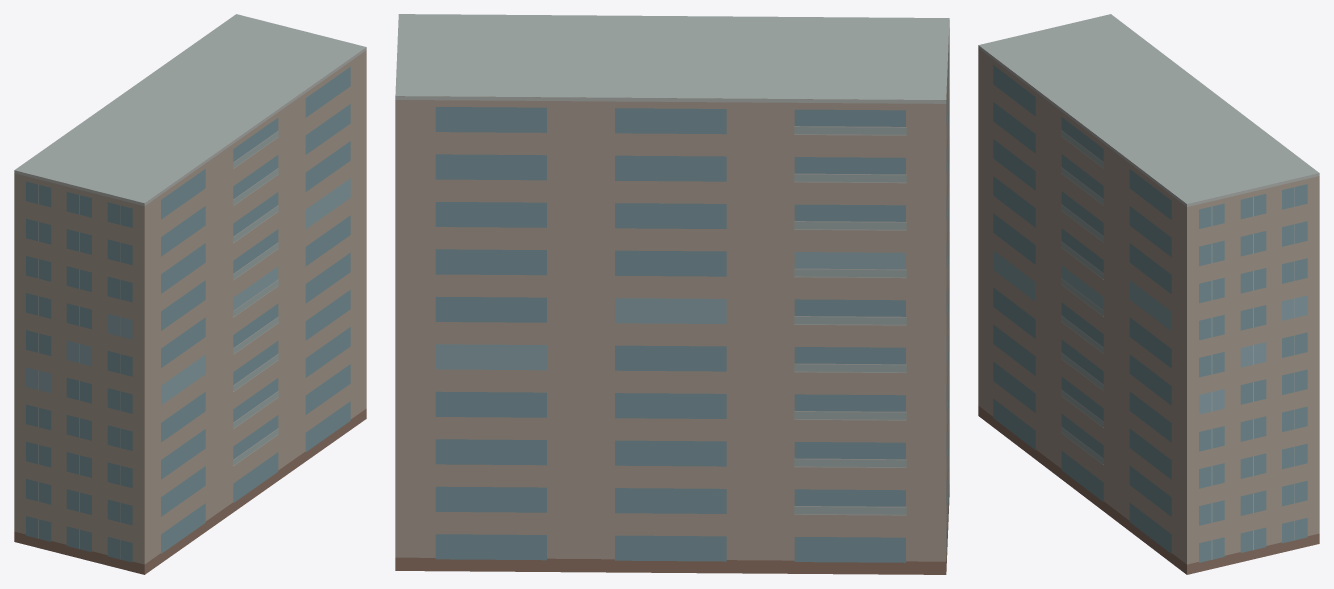
File: residential-b673d8ae-f360-4c14-a42a-2ba1d16e3e64.glb
3 renders of one model, left to right at view 1: azimuth 30°, elevation 25°; view 2: azimuth 150°, elevation 25°; view 3: azimuth 270°, elevation 25°, orthographic. The views are drawn at different scales.
Parts seen in each view (by area): view 1: residential-b673d8ae-f360-4c14-a42a-2ba1d16e3e64.tmp; view 2: residential-b673d8ae-f360-4c14-a42a-2ba1d16e3e64.tmp; view 3: residential-b673d8ae-f360-4c14-a42a-2ba1d16e3e64.tmp.
Boxes of the visible parts, x1,y1,x2,y2 form: residential-b673d8ae-f360-4c14-a42a-2ba1d16e3e64.tmp: (14, 14, 366, 574); residential-b673d8ae-f360-4c14-a42a-2ba1d16e3e64.tmp: (395, 14, 949, 574); residential-b673d8ae-f360-4c14-a42a-2ba1d16e3e64.tmp: (978, 14, 1319, 574).
Size of the model in its own units: 33.55 by 30.5 by 25.45.
